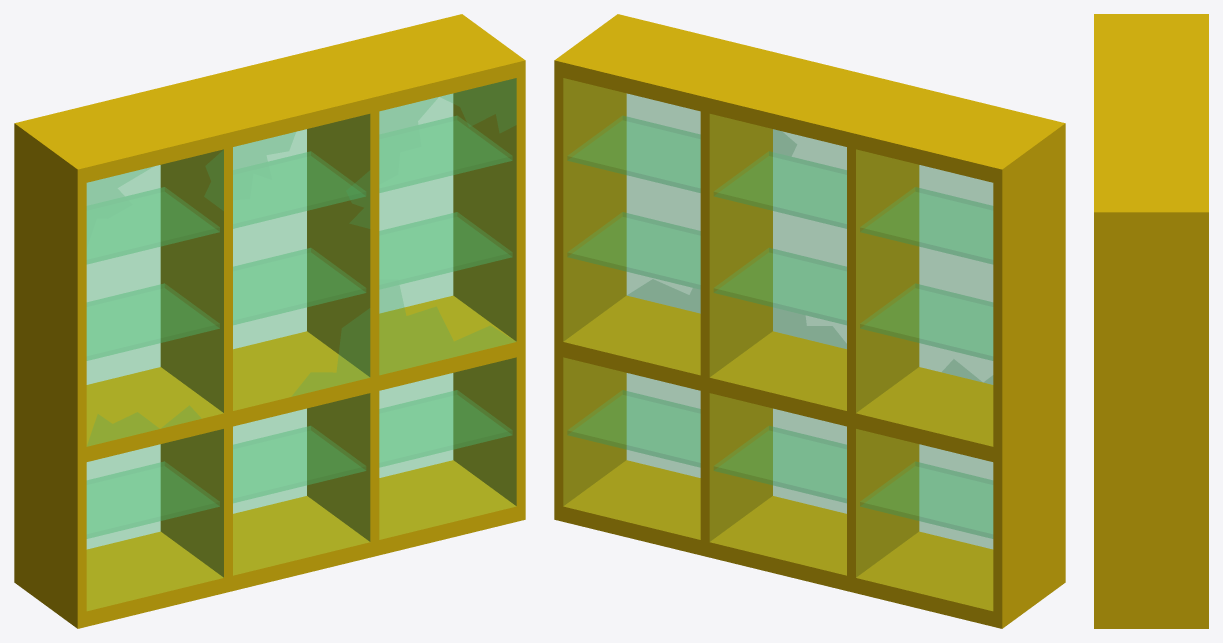
File: TallCabinet.fbx
The picture shows the model from 3 angles, left to right: view 1: azimuth 30°, elevation 25°; view 2: azimuth 150°, elevation 25°; view 3: azimuth 270°, elevation 25°; orthographic projection. The views are drawn at different scales.
Parts seen in each view (by area): view 1: Shelf, BottomFreshWindows, FreshWindows.003, FreshWindows.002, FreshWindows.001, BackWindows, MiniShelf.002, MiniShelf, MiniShelf.001, BrokenWindows, BrokenWindows.002, BrokenWindows.001; view 2: Shelf, BackWindows, MiniShelf.002, MiniShelf, MiniShelf.001, BottomFreshWindows, FreshWindows.002, FreshWindows.003, FreshWindows.001, BrokenWindows.002, BrokenWindows; view 3: Shelf.
Part boxes in pixels (left/top/right/bottom): Shelf: left=14, top=14, right=525, bottom=628; BottomFreshWindows: left=87, top=358, right=516, bottom=610; FreshWindows.003: left=379, top=78, right=516, bottom=374; FreshWindows.002: left=233, top=114, right=369, bottom=410; FreshWindows.001: left=87, top=150, right=223, bottom=445; BackWindows: left=87, top=97, right=452, bottom=548; MiniShelf.002: left=87, top=390, right=511, bottom=538; MiniShelf: left=87, top=212, right=511, bottom=360; MiniShelf.001: left=87, top=116, right=511, bottom=263; BrokenWindows: left=379, top=78, right=516, bottom=374; BrokenWindows.002: left=233, top=132, right=369, bottom=396; BrokenWindows.001: left=87, top=150, right=223, bottom=446; Shelf: left=554, top=14, right=1065, bottom=628; BackWindows: left=563, top=78, right=992, bottom=610; MiniShelf.002: left=568, top=390, right=992, bottom=538; MiniShelf: left=568, top=212, right=992, bottom=360; MiniShelf.001: left=568, top=116, right=992, bottom=263; BottomFreshWindows: left=627, top=373, right=992, bottom=548; FreshWindows.002: left=773, top=130, right=846, bottom=348; FreshWindows.003: left=627, top=94, right=699, bottom=311; FreshWindows.001: left=920, top=165, right=992, bottom=382; BrokenWindows.002: left=773, top=134, right=846, bottom=348; BrokenWindows: left=628, top=280, right=699, bottom=312; Shelf: left=1094, top=14, right=1208, bottom=628.
Size of the model in its own units: 204 by 200 by 50.
